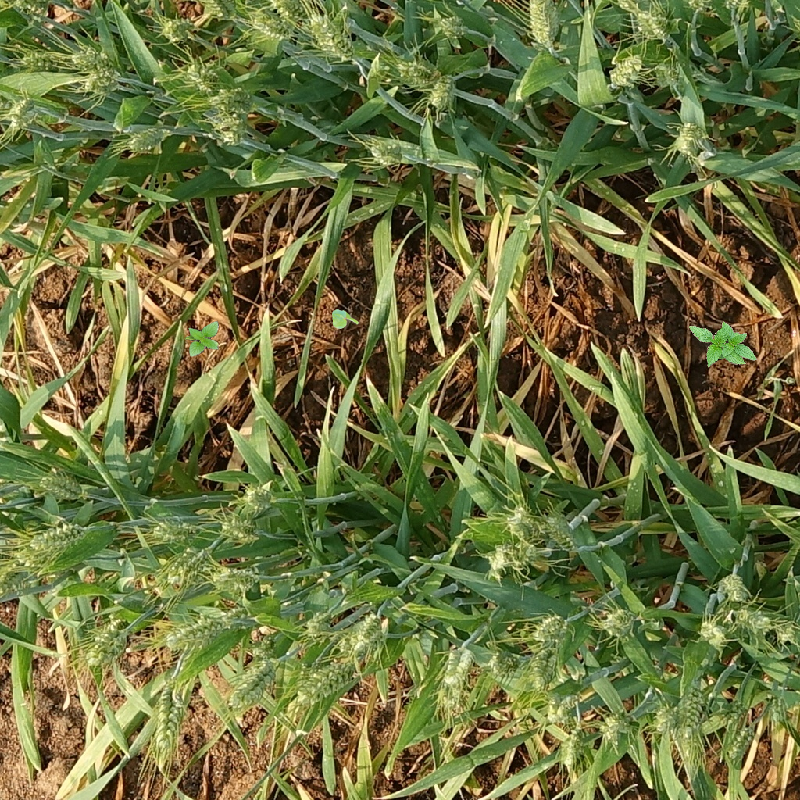spikelet: (291, 659, 352, 710), (163, 610, 231, 651), (435, 644, 473, 711), (307, 12, 352, 63), (229, 655, 274, 706), (79, 618, 125, 667), (25, 520, 84, 558), (149, 699, 185, 761), (157, 546, 209, 587), (345, 612, 387, 654), (676, 679, 707, 732), (246, 6, 292, 41), (210, 563, 260, 595), (38, 470, 86, 501), (542, 686, 583, 722), (543, 511, 578, 553), (486, 542, 527, 576), (211, 85, 255, 116), (633, 6, 670, 42), (127, 123, 171, 153), (527, 1, 555, 48), (148, 516, 195, 544), (723, 721, 755, 762), (394, 58, 435, 90), (607, 51, 643, 87), (1, 94, 37, 130), (672, 121, 707, 157), (1, 568, 39, 601), (599, 606, 637, 638), (240, 480, 274, 515), (505, 504, 538, 540), (5, 1, 51, 26), (80, 65, 119, 94), (69, 44, 110, 71), (533, 612, 567, 644), (367, 136, 403, 166), (158, 14, 195, 43), (220, 515, 257, 543), (735, 606, 772, 634), (486, 649, 519, 680), (558, 732, 586, 767), (431, 11, 466, 39), (717, 572, 748, 603), (651, 704, 681, 736), (697, 618, 727, 648), (302, 611, 331, 642), (427, 76, 453, 108), (598, 713, 624, 744)
weed: (688, 322, 756, 371), (185, 321, 219, 357), (332, 309, 359, 329)
